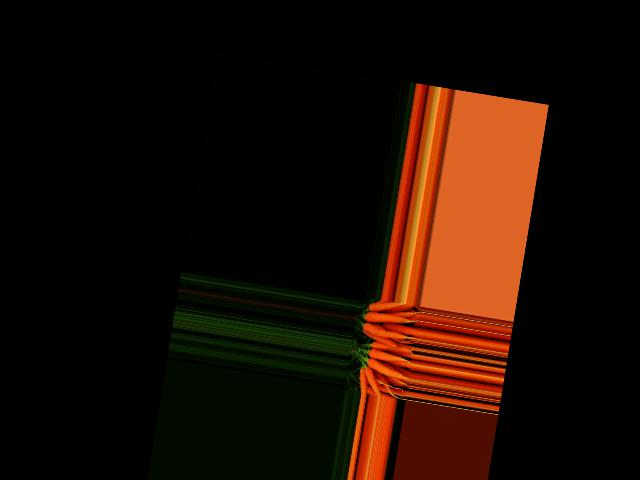carrot: (364, 307, 417, 331)
